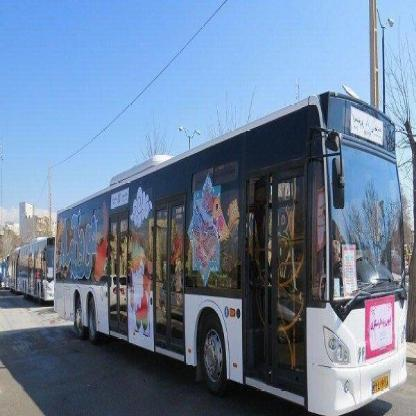Bus: (54, 83, 415, 416), (0, 230, 60, 309)
